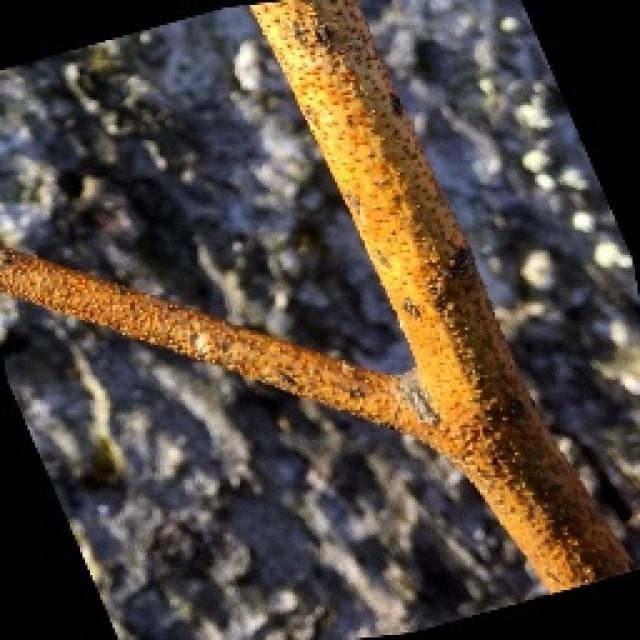Golden_canker: (27, 17, 627, 640)
